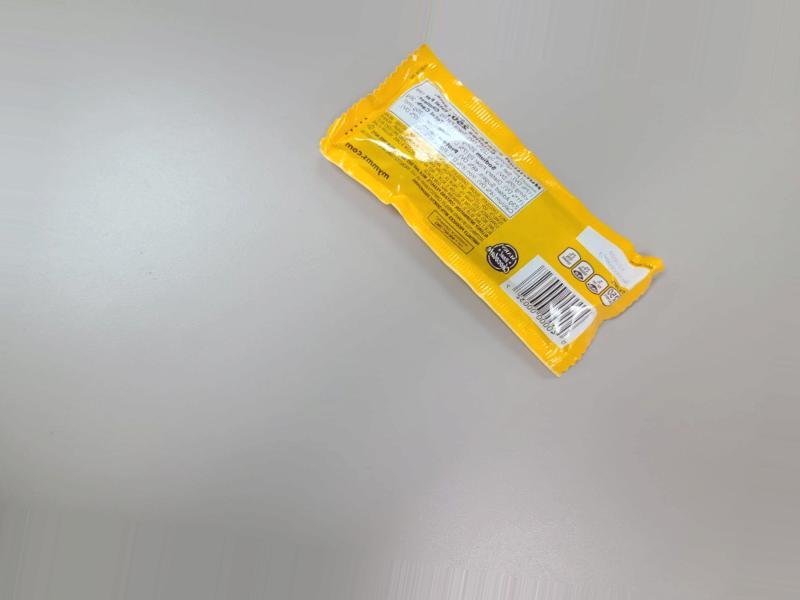m&m: (295, 26, 674, 383)
